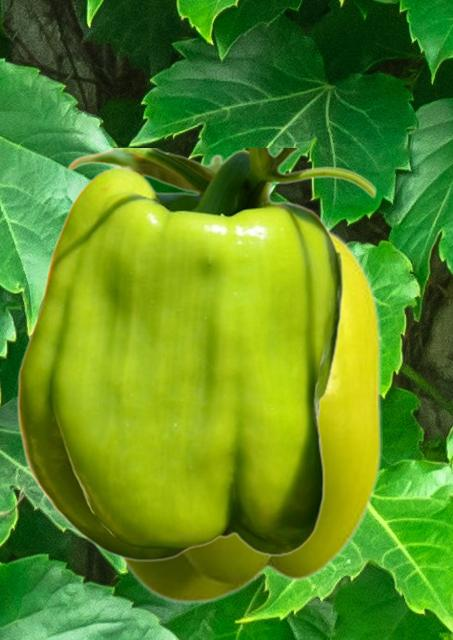bell_pepper: (16, 148, 376, 561), (119, 226, 381, 603)
